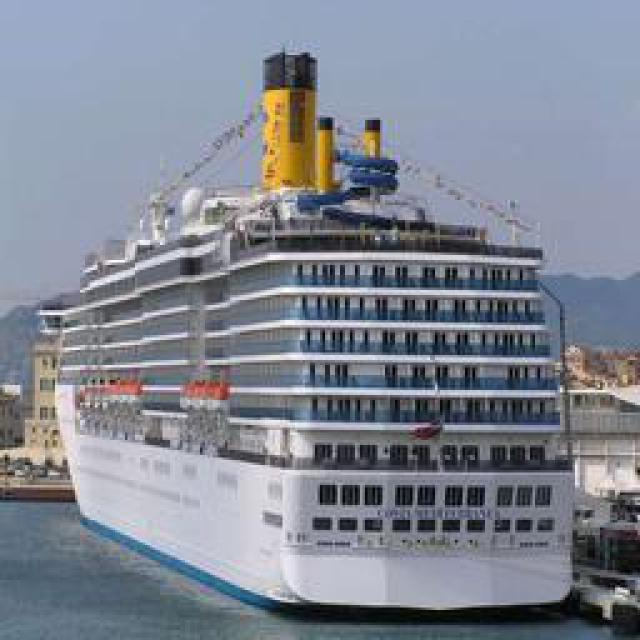Ship: (46, 39, 594, 632)
